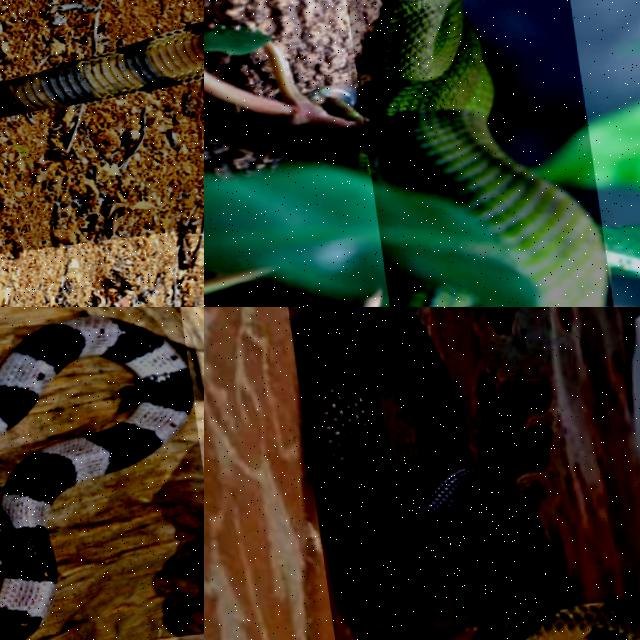Bungarus candidus: (0, 317, 191, 639)
Naja kaouthia: (300, 307, 639, 639)
Ophiophagus hannah: (0, 24, 203, 116)
Trimeresurus macrops: (368, 0, 608, 306)
snake: (300, 307, 639, 639), (368, 0, 608, 306), (0, 317, 191, 639), (0, 24, 203, 116)
